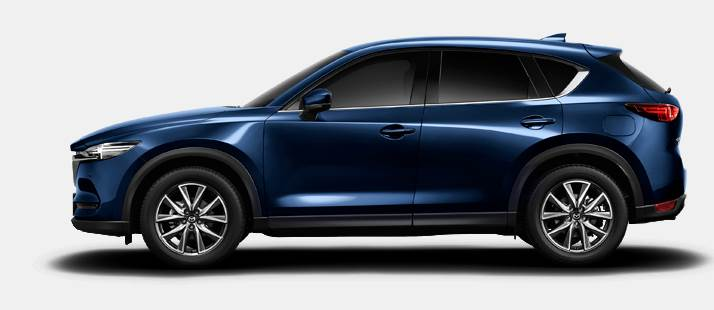pickup: (69, 32, 688, 272)
